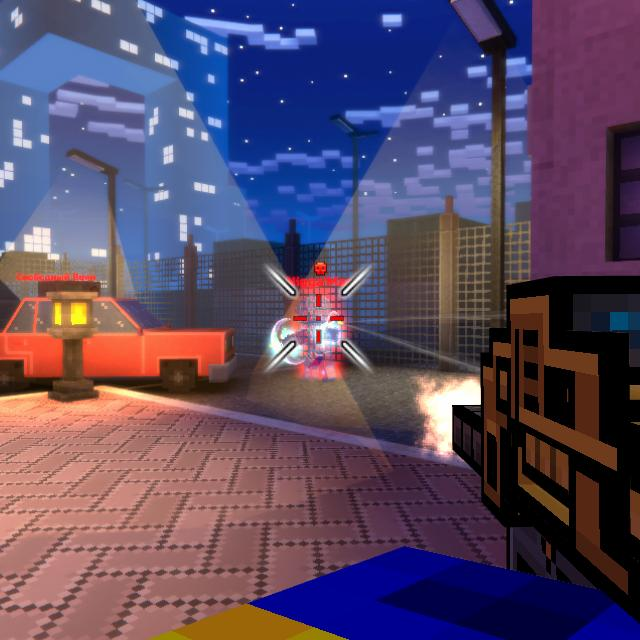Enemy: (282, 294, 339, 383)
